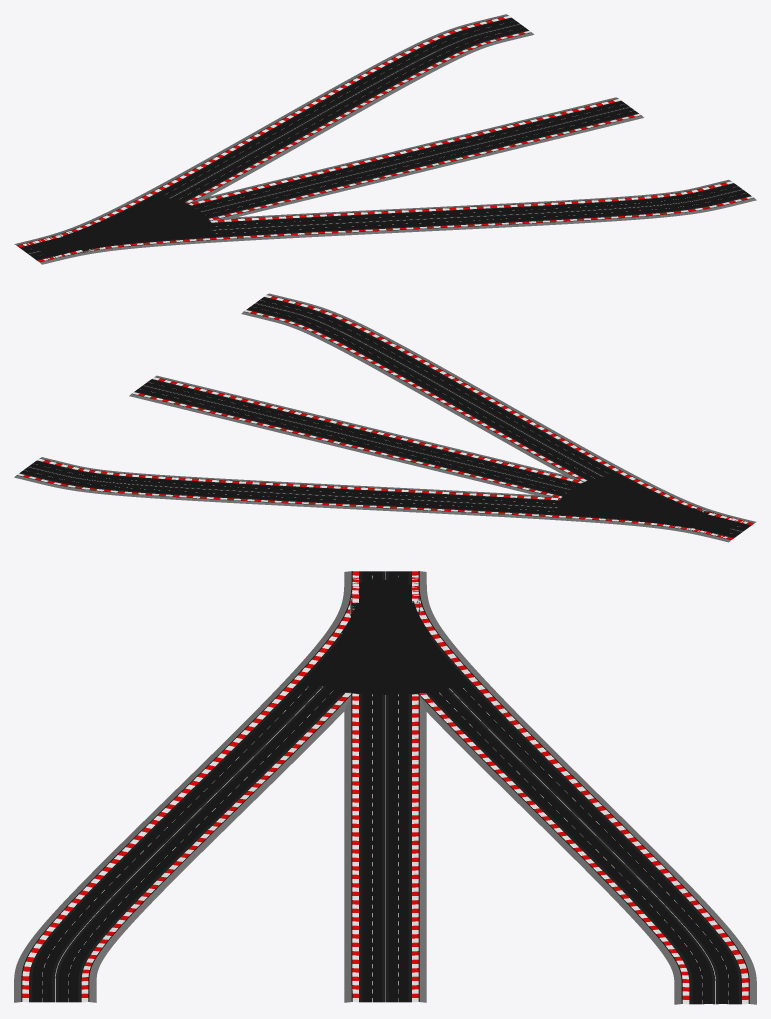
File: S0.1c123-3lines.glb
3 renders of one model, top to bottom at view 1: azimuth 30°, elevation 25°; view 2: azimuth 150°, elevation 25°; view 3: azimuth 270°, elevation 25°, orthographic. The views are drawn at different scales.
Visible parts, largest first — view 1: Grid.005; view 2: Grid.005; view 3: Grid.005.
Boxes of the visible parts, x1,y1,x2,y2 form: Grid.005: [14, 14, 756, 264]; Grid.005: [14, 293, 756, 542]; Grid.005: [14, 571, 756, 1004].
Bounding box in the file's own units: 310 × 0.31 × 225.
